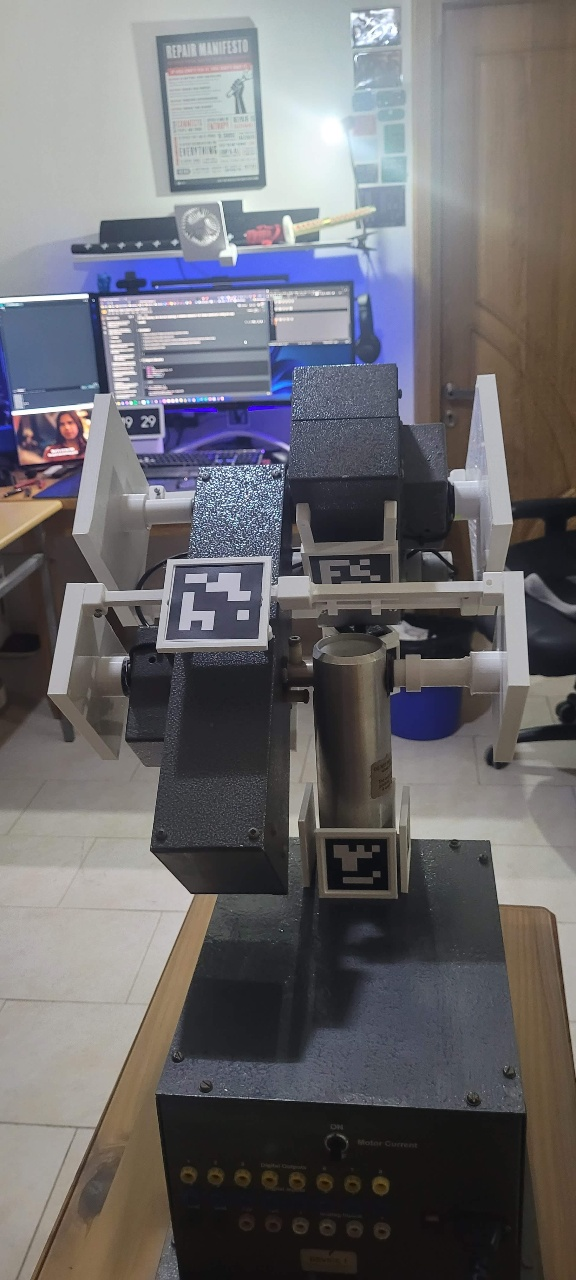Robot: (37, 303, 476, 1078)
